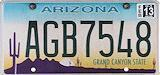placa de veiculo: (2, 0, 157, 73)
